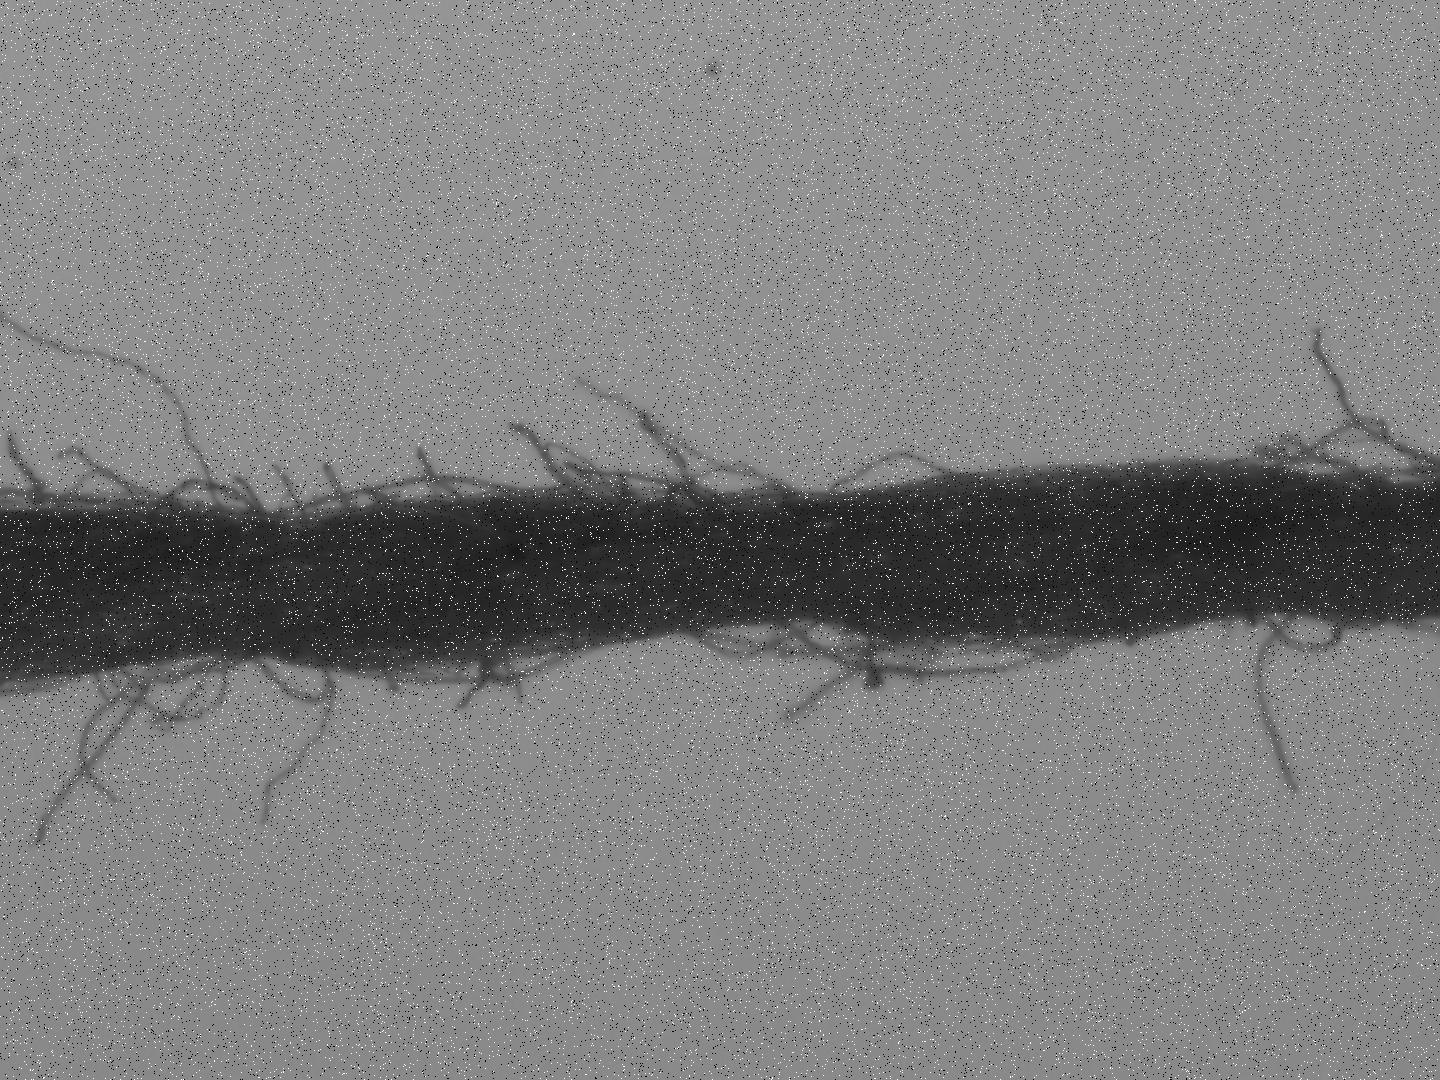loop_fiber: (785, 622, 1053, 677), (357, 647, 575, 686), (287, 480, 535, 513), (837, 452, 962, 493), (696, 618, 798, 664), (110, 649, 244, 683), (158, 484, 263, 517), (67, 469, 143, 514), (260, 660, 334, 706), (1259, 611, 1345, 650), (1281, 455, 1392, 482), (668, 486, 725, 513)
protruding_fiber: (35, 656, 150, 847), (263, 669, 333, 822), (1255, 613, 1306, 791), (515, 416, 592, 507), (413, 448, 467, 506), (457, 653, 490, 714), (274, 469, 308, 520)
